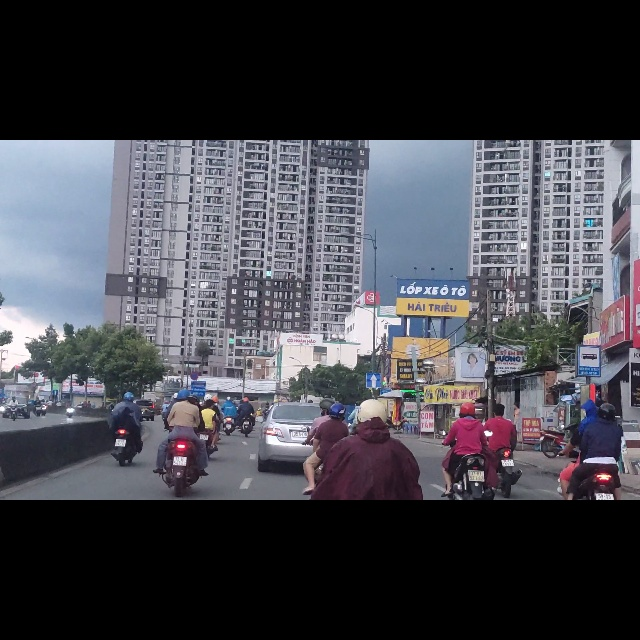bien_cam: (577, 364, 601, 421), (366, 412, 381, 440), (190, 412, 198, 427)
